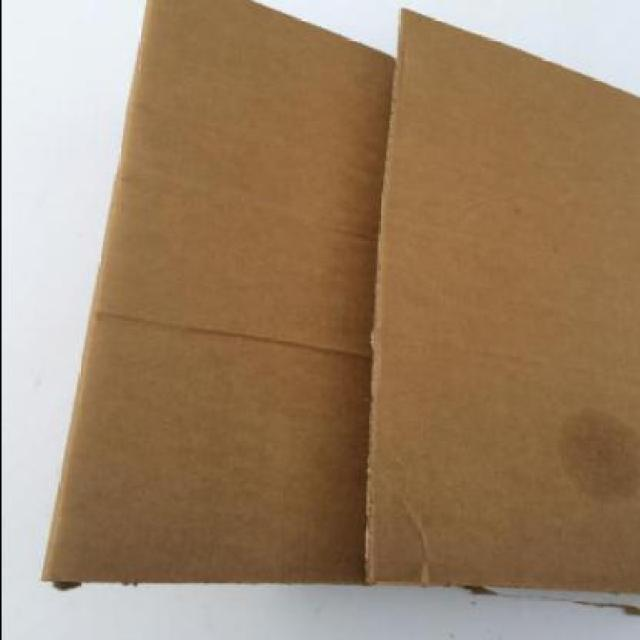CARDBOARD: (40, 0, 640, 595), (366, 9, 640, 597)
